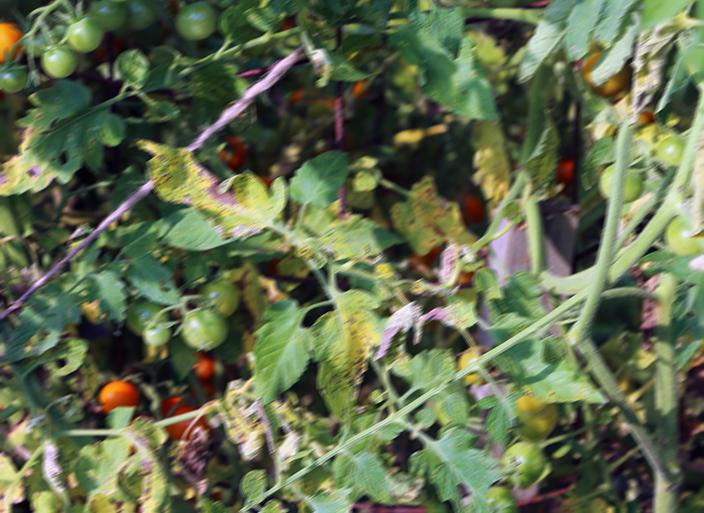Tomato Early blight leaf: (133, 140, 290, 244), (0, 86, 123, 197), (396, 25, 495, 124), (310, 292, 379, 422), (479, 348, 601, 407), (392, 184, 470, 253), (313, 216, 401, 259)
Tomato leaf: (247, 303, 316, 407)
